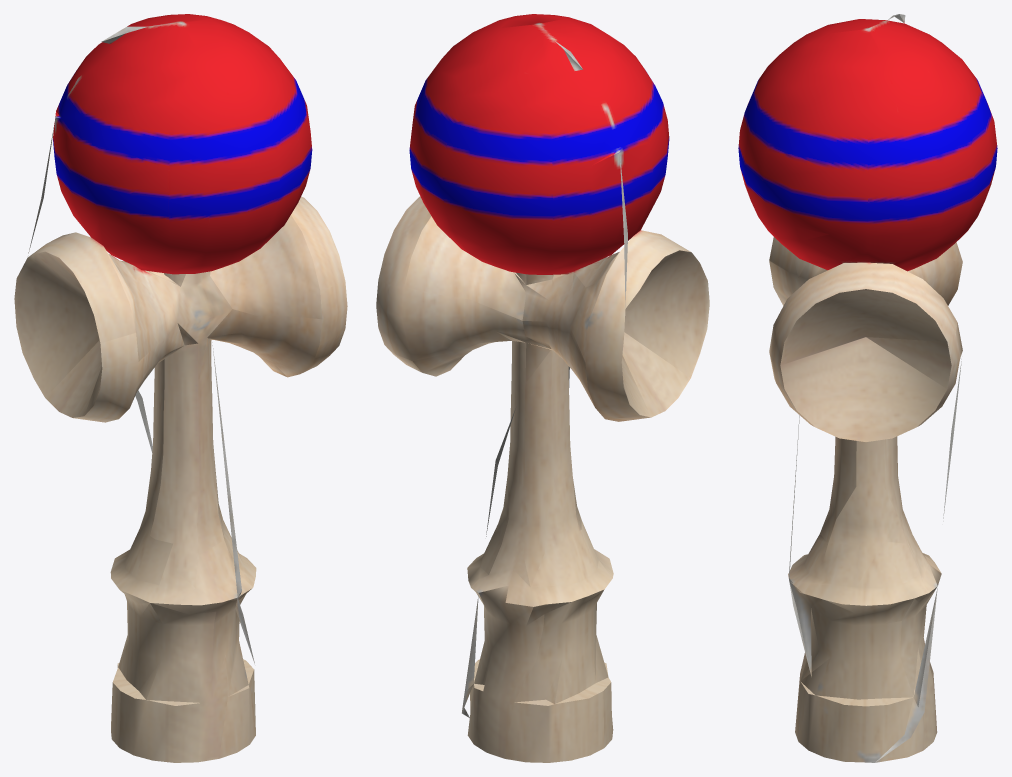
Rendered from kendama.glb.
3 renders of one model, left to right at view 1: azimuth 30°, elevation 25°; view 2: azimuth 150°, elevation 25°; view 3: azimuth 270°, elevation 25°, orthographic.
Visible parts, largest first — view 1: mesh; view 2: mesh; view 3: mesh.
Part boxes in pixels (x1,y1,x2,y2): mesh: (14, 14, 347, 762); mesh: (376, 14, 709, 762); mesh: (738, 14, 997, 762).
Size of the model in its own units: 0.0654 by 0.18 by 0.06.
1 material, 1 textured.
